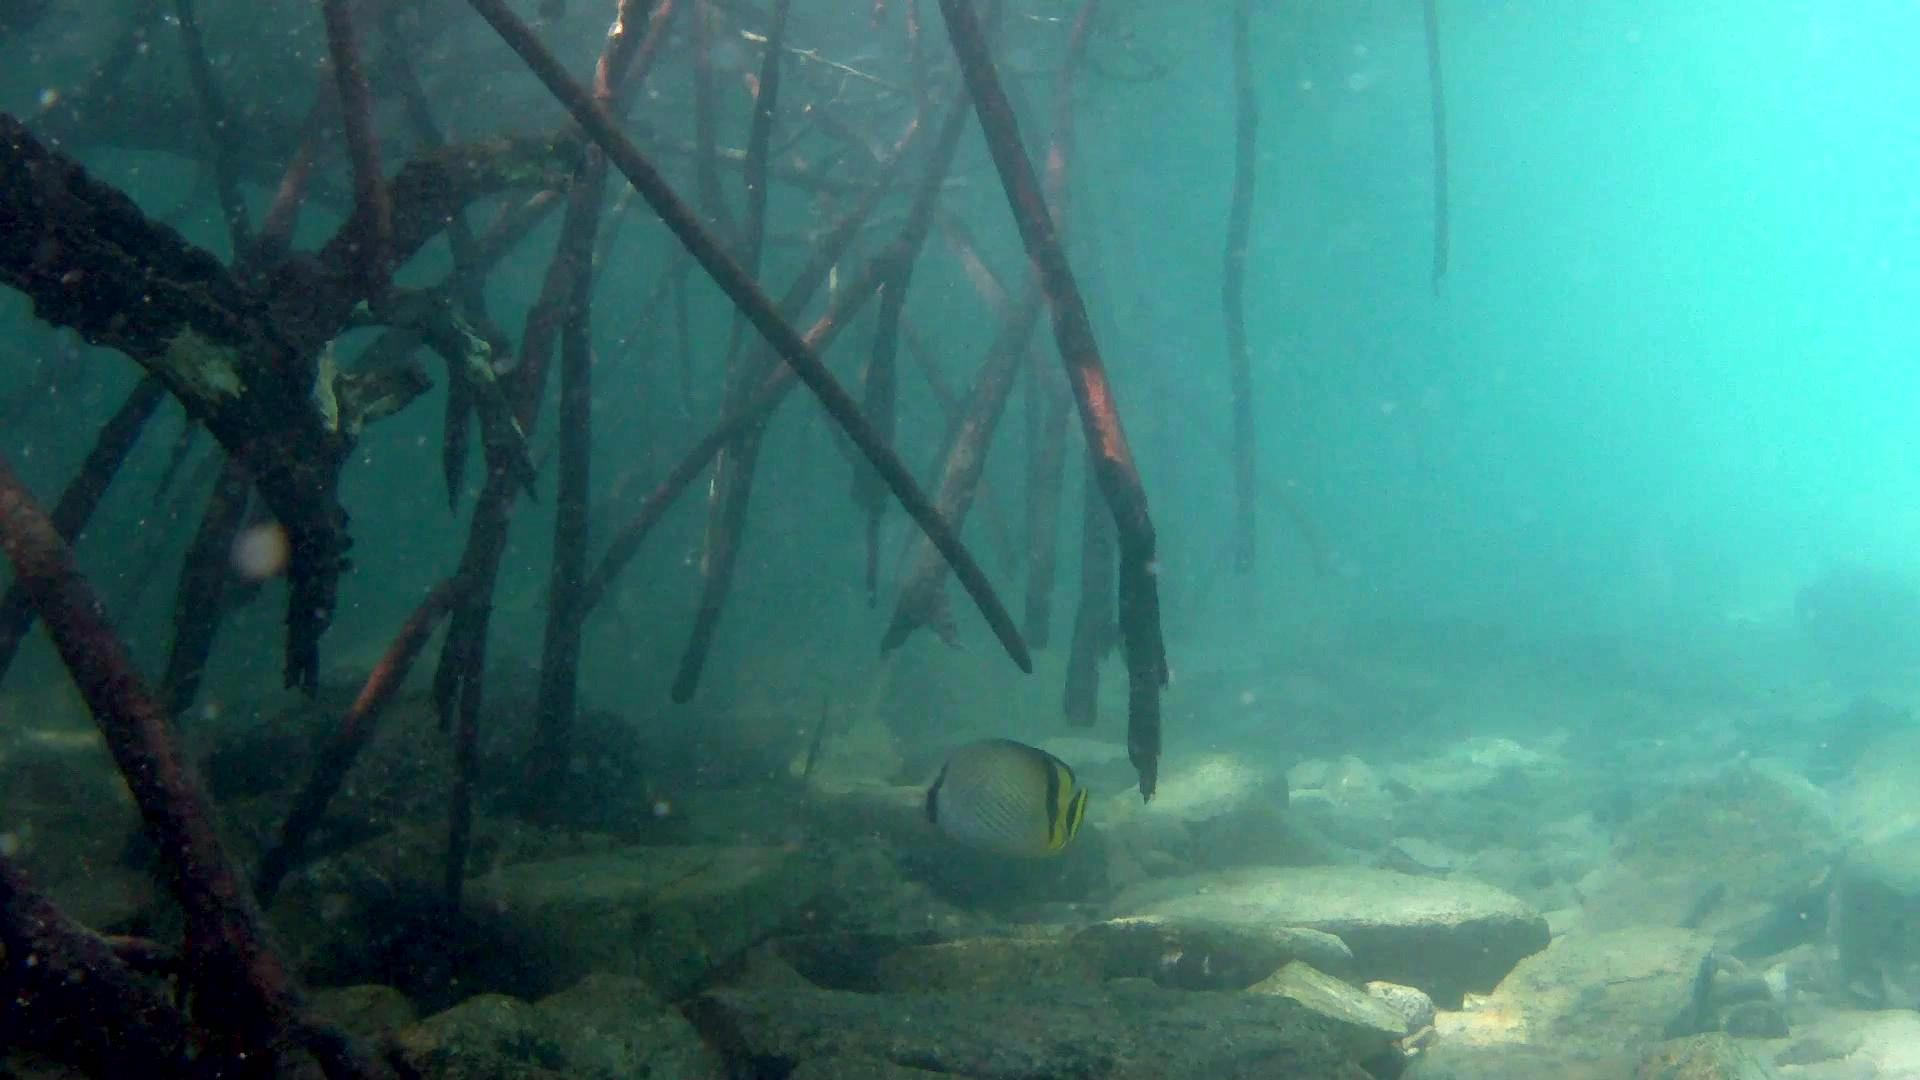chaetodon vagabundus: (903, 731, 1094, 864)
